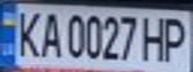0: (84, 11, 106, 61), (63, 10, 84, 60)
2: (103, 11, 121, 61)
7: (118, 12, 142, 62)
A: (36, 8, 63, 59)
H: (139, 12, 172, 62)
K: (9, 7, 45, 58)
P: (160, 14, 193, 63)
